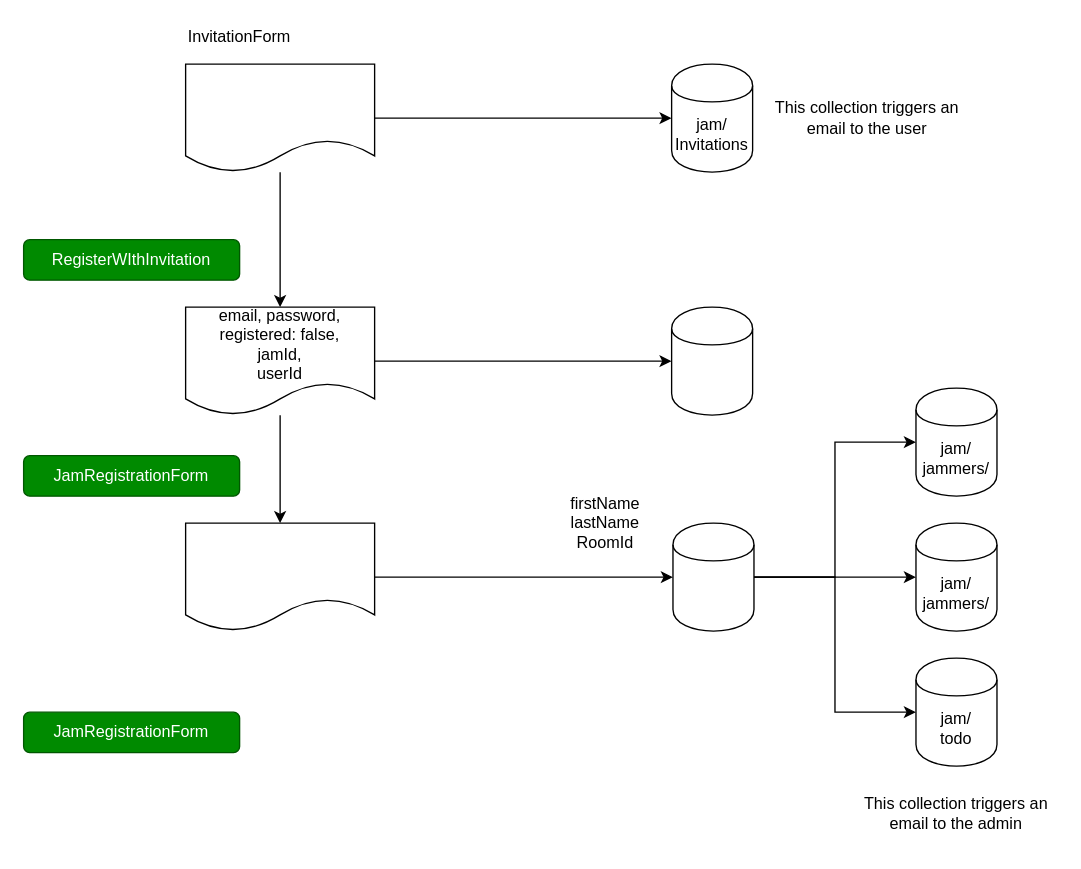
This 1081x869 diagram has some shape labels left out. Here are the shapes that lost their labels. From the top down, the centre of each, then its label:
At pixel 279 117: "name, surname, email amId".
At pixel 711 360: "user".
At pixel 279 576: "address, tel, handy, passport . . . .".
At pixel 713 576: "jam/ invitations/ userReply".
